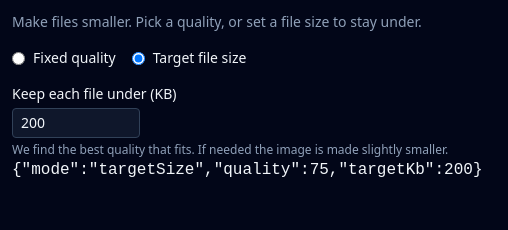
Scenario: Compress panel › treats an emptied number field as invalid instead of crashing
Step 1. Clear the number field labelled "Keep each file under (KB)" → (76, 123), box [12, 108, 140, 138]
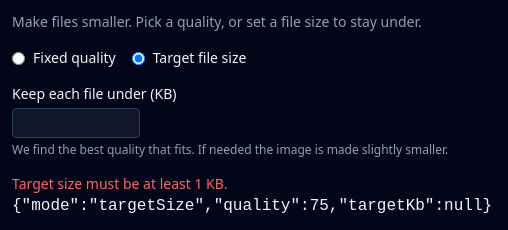
Now the message "Target size must be at least 1 KB." is shown, box [12, 174, 227, 193]
